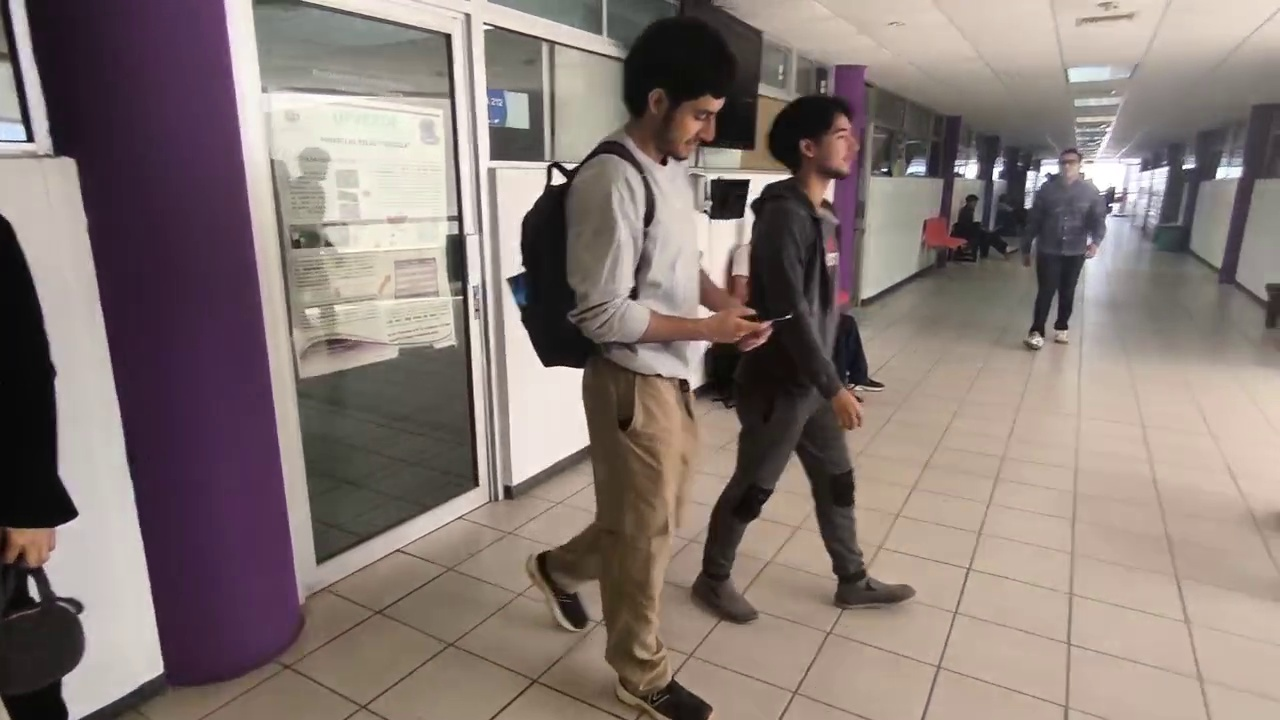mixto2: (741, 303, 800, 328)
